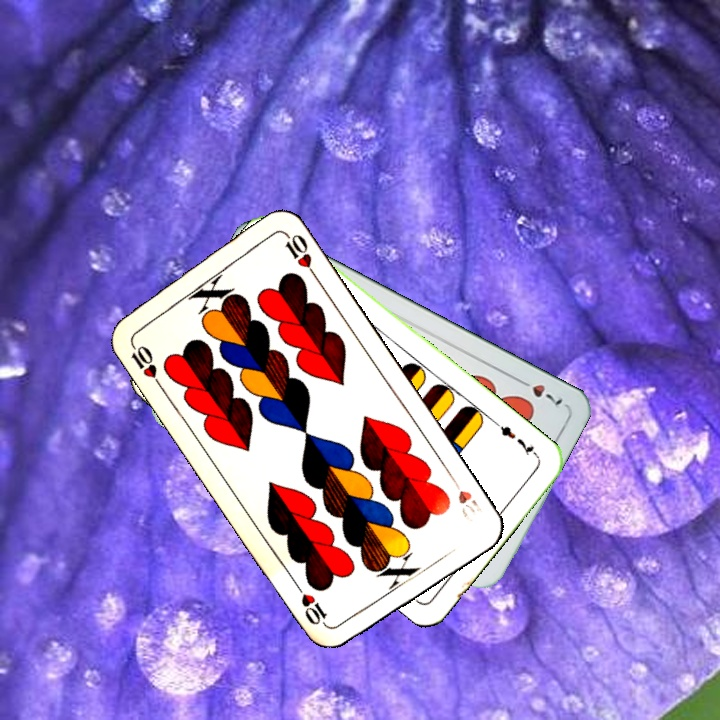E7: (491, 418, 541, 460)
H10: (126, 337, 164, 390), (446, 471, 486, 520)
H7: (513, 374, 566, 410)
